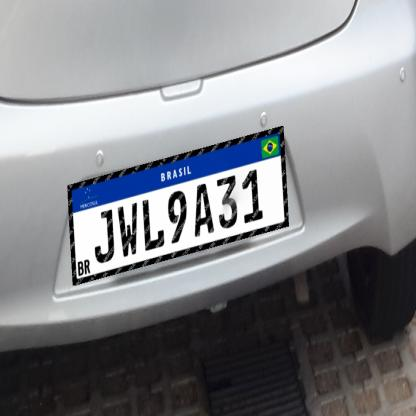PlacaM: (67, 126, 289, 285)
